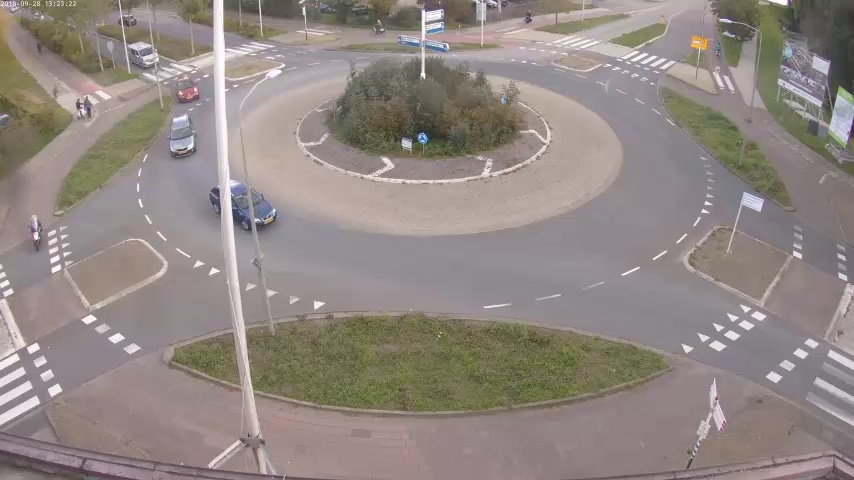bicycle: (713, 39, 727, 68), (367, 16, 385, 36)
car: (209, 182, 274, 230), (163, 114, 198, 158), (117, 13, 135, 27)
motorcycle: (28, 213, 44, 250)
person: (71, 97, 85, 120), (83, 97, 94, 122)
van: (126, 38, 159, 69)
